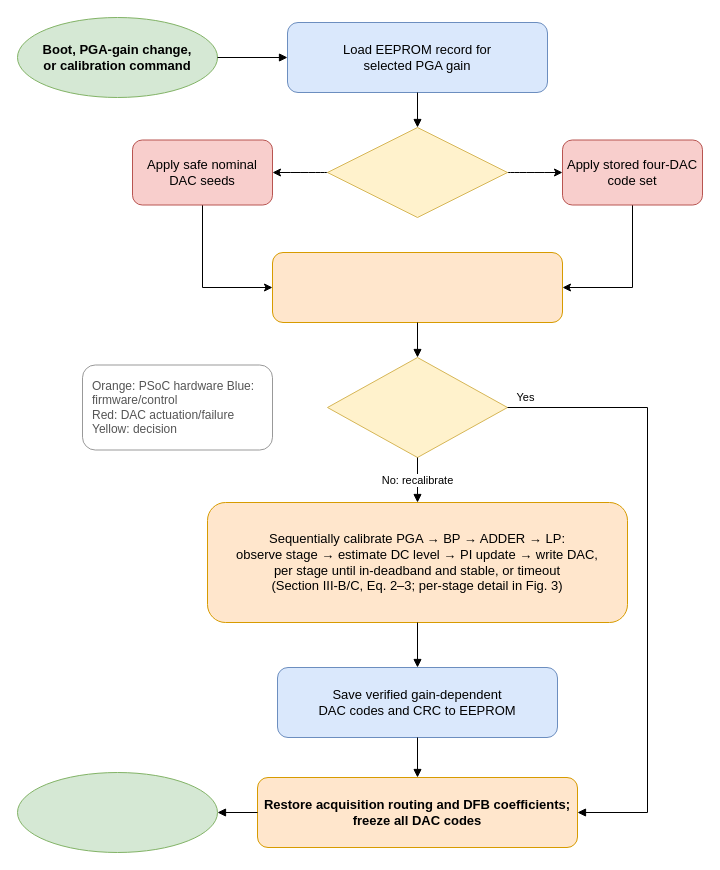
This 720x870 diagram has some shape labels left out. Here are the shapes that lost their labels. From the top down, the centre of each, then its label:
At pixel 417 172: "Valid record and CRC?".
At pixel 417 287: "Configure AMux + ADC + DFB for rapid offset verification".
At pixel 417 407: "All four stages within tolerance?".
At pixel 117 812: "Acquire geophone signal (calibration feedback inactive)".
